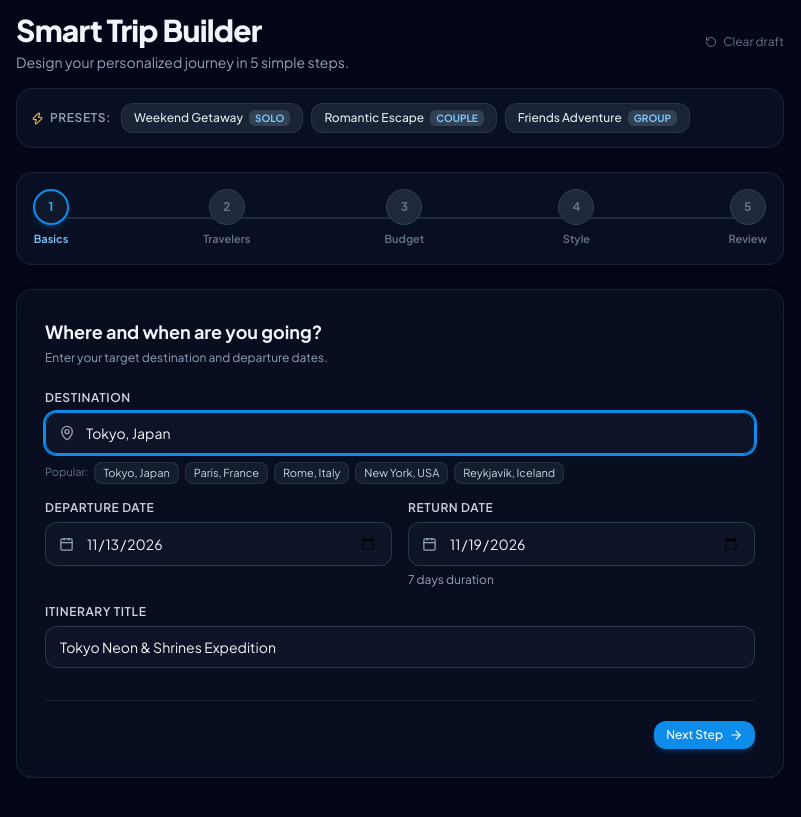
Scenario: Smart Trip Builder Multi-Step Wizard › validates required fields before proceeding to the next step
The width and height of the screenshot is (801, 817).
// Clear destination if preset filled it
Clear the field with placeholder "e.g. Barcelona, Spain or Kyoto, Japan" at {"x": 400, "y": 432}, box [45,412,755,454]
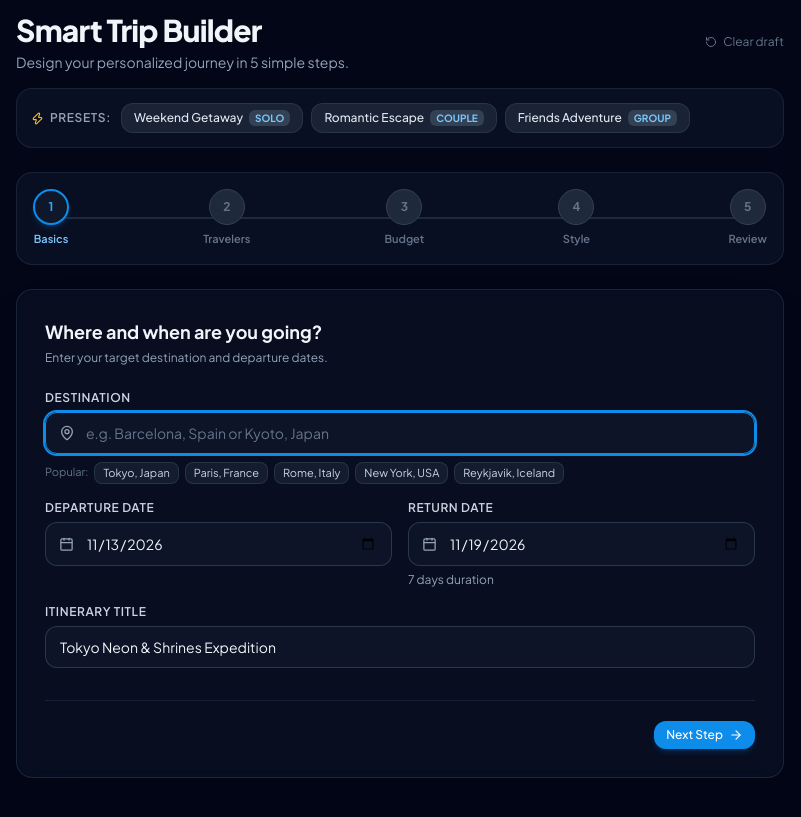
Click the button "Next Step".
click(705, 735)  # box [654,721,755,749]
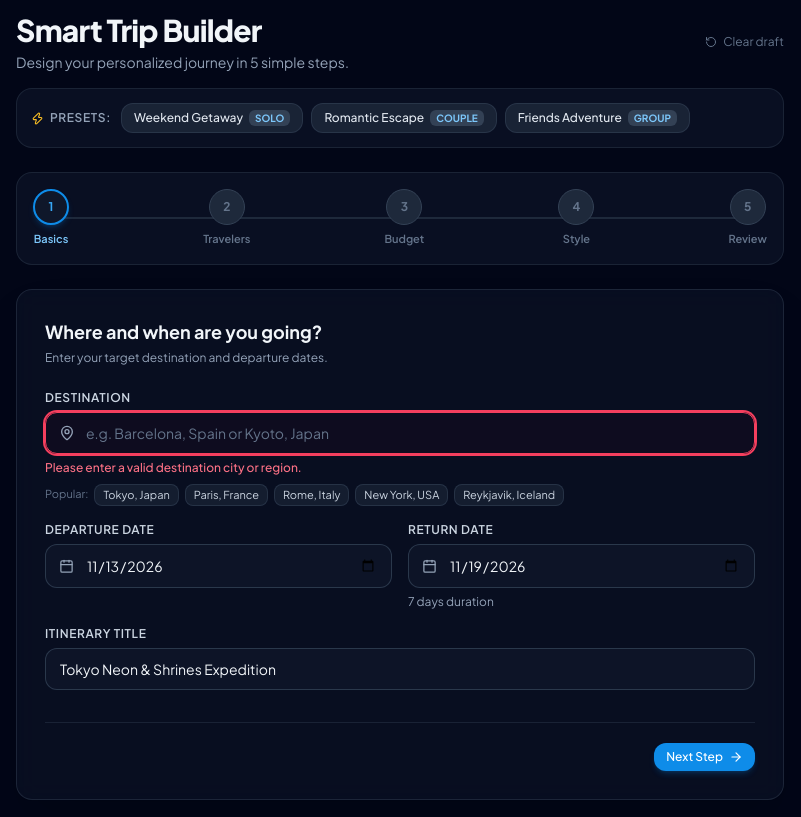
Expected: the heading "Where and when are you going?" is shown, [45,320,322,342]
Expected: the text "Please enter a valid destination city or region." is shown, [45,460,302,474]
